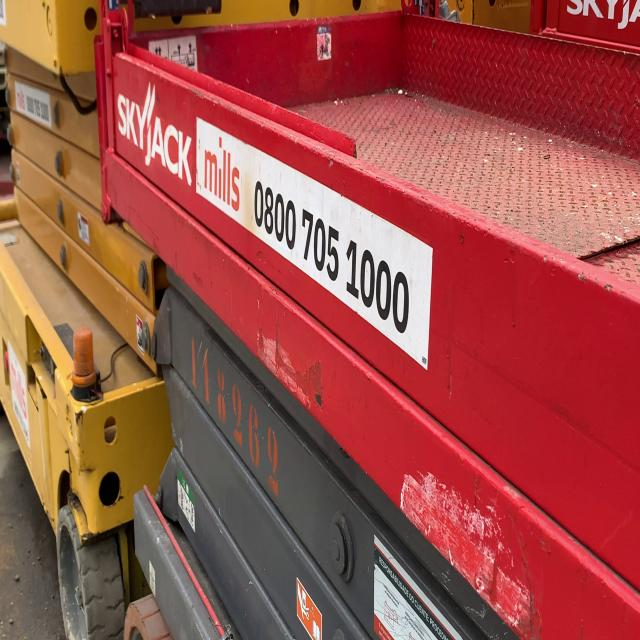Adesivo Longo: (195, 115, 435, 373)
